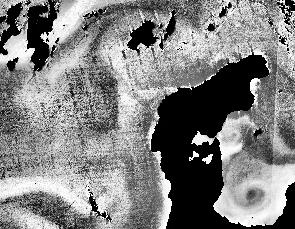CE: (228, 179, 278, 215)
